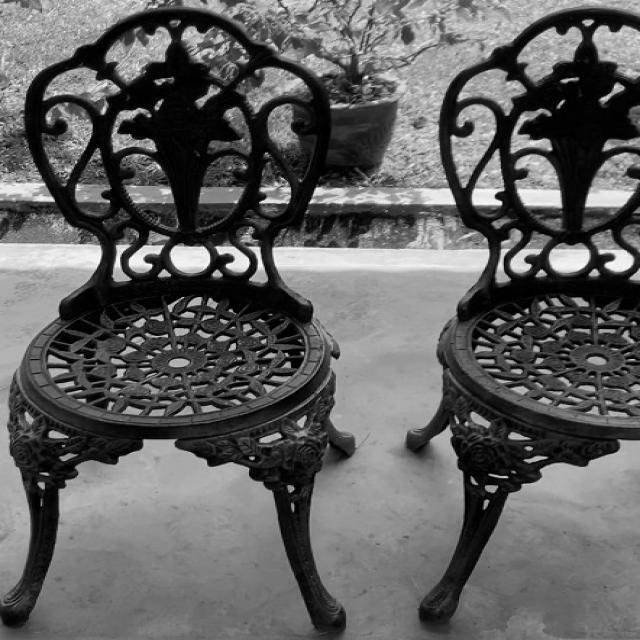chair: (2, 9, 386, 636), (410, 2, 640, 640)
